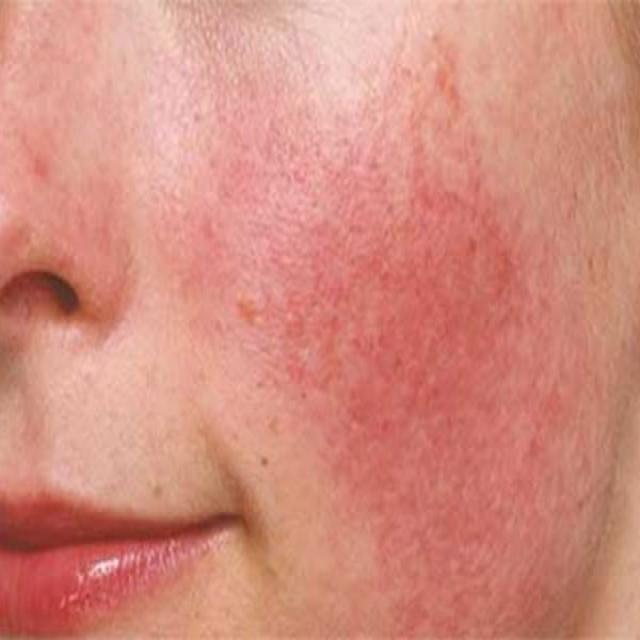Skin-Redness: (244, 78, 542, 511)
